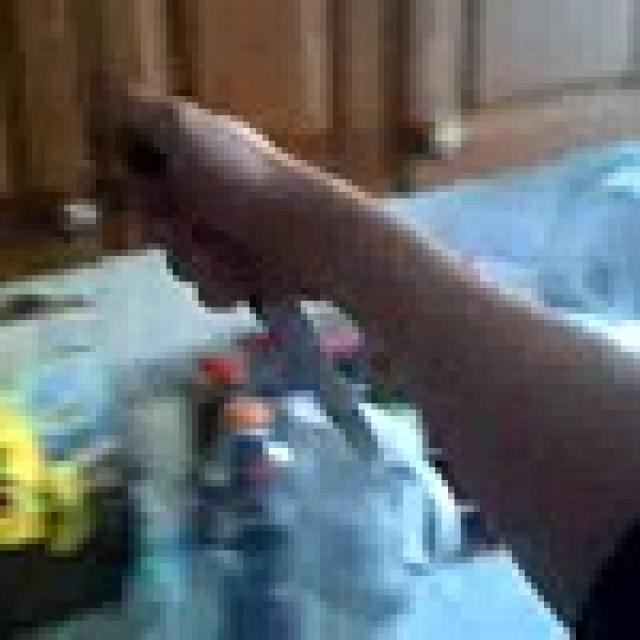Knife: (134, 134, 384, 473)
